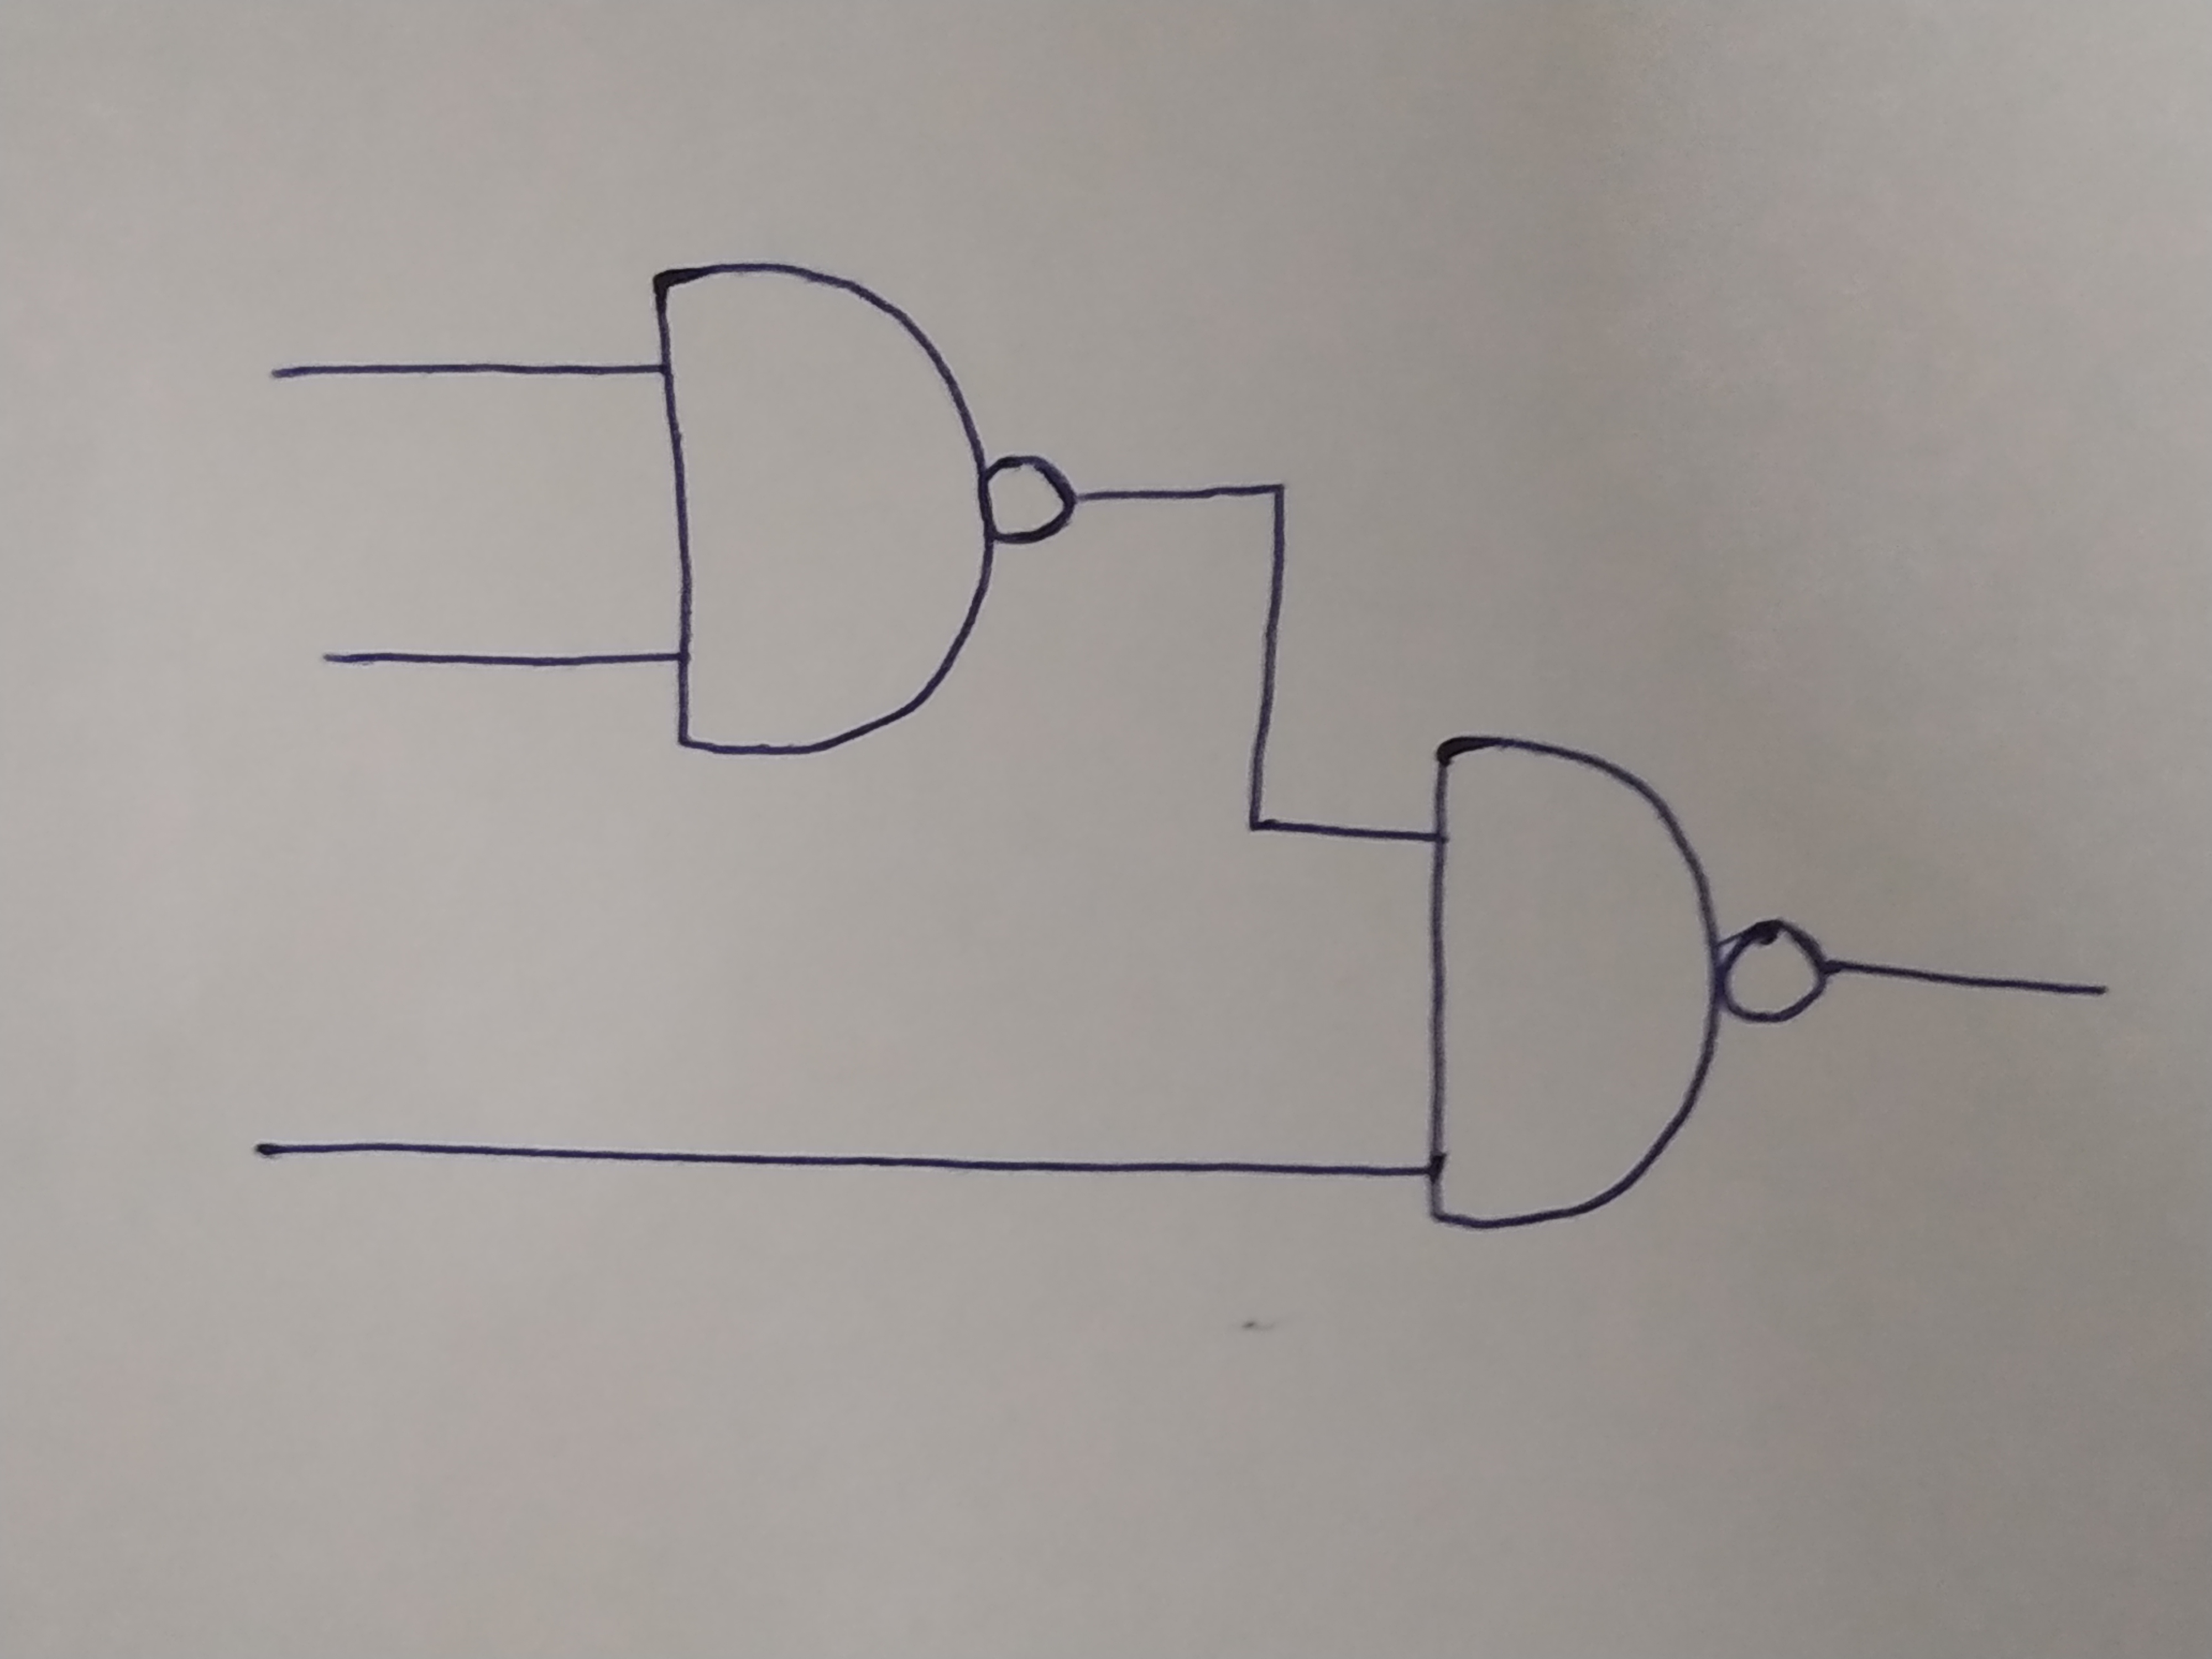and: (646, 258, 995, 765), (1428, 737, 1712, 1237)
not: (1721, 927, 1824, 1019), (986, 457, 1071, 535)
